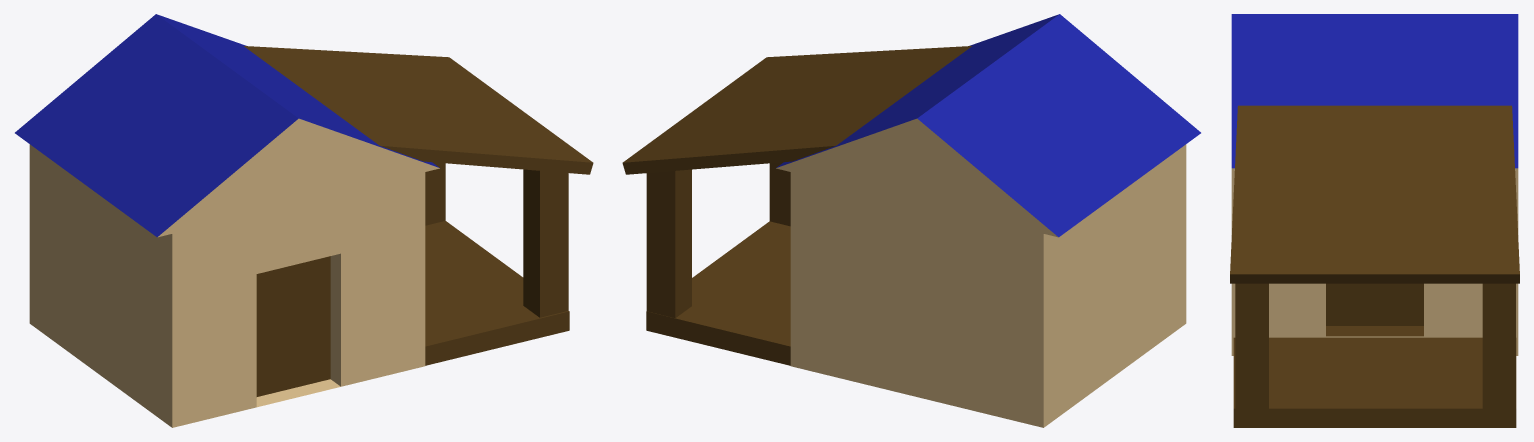
Rendered from StoneWorkshop.fbx.
The picture shows the model from 3 angles, left to right: view 1: azimuth 30°, elevation 25°; view 2: azimuth 150°, elevation 25°; view 3: azimuth 270°, elevation 25°; orthographic projection.
Visible parts, largest first — view 1: StoneWorkshop; view 2: StoneWorkshop; view 3: StoneWorkshop.
Part boxes in pixels (x1,y1,x2,y2): StoneWorkshop: [15, 14, 593, 427]; StoneWorkshop: [622, 14, 1200, 427]; StoneWorkshop: [1230, 14, 1519, 427].
Bounding box in the file's own units: 1421 × 871 × 815.
